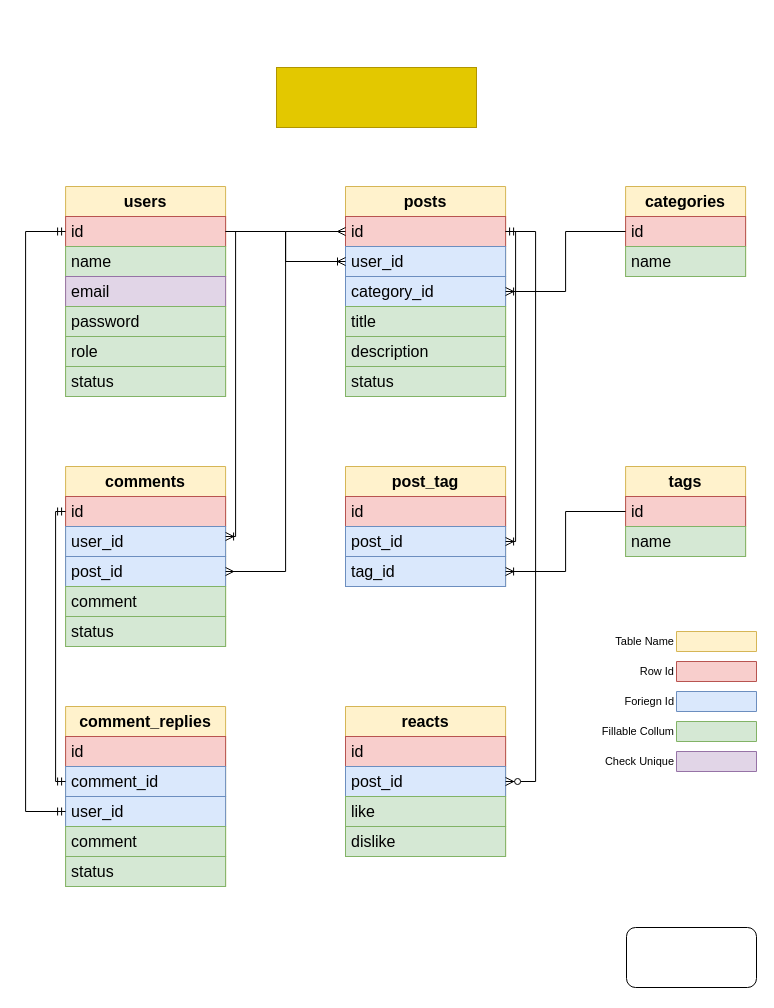
The diagram is 774 pixels wide and 1008 high, and some of its shapes have lost their labels. Here are the shapes that lost their labels. From the top down, the centre of each, then its label:
At point 376,97: "Blog System Database Diagram".
At point 691,957: "Atik Hassan Backend Engineer atik.hassan@outlook.com".
